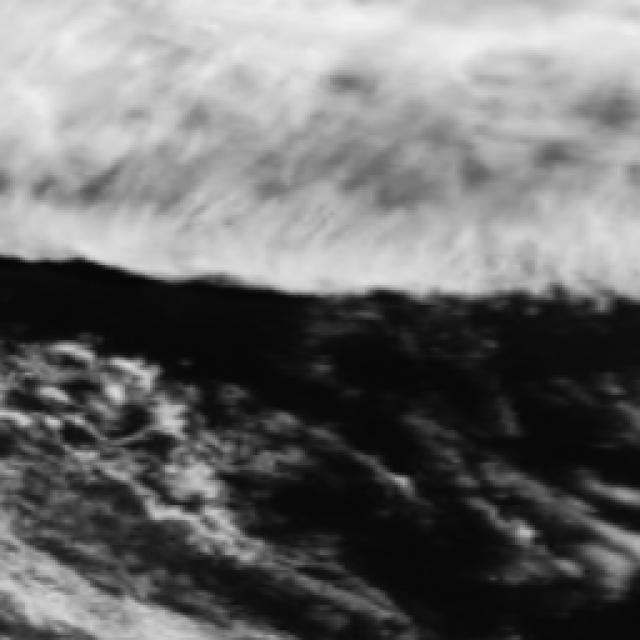CB: (44, 7, 620, 78)
